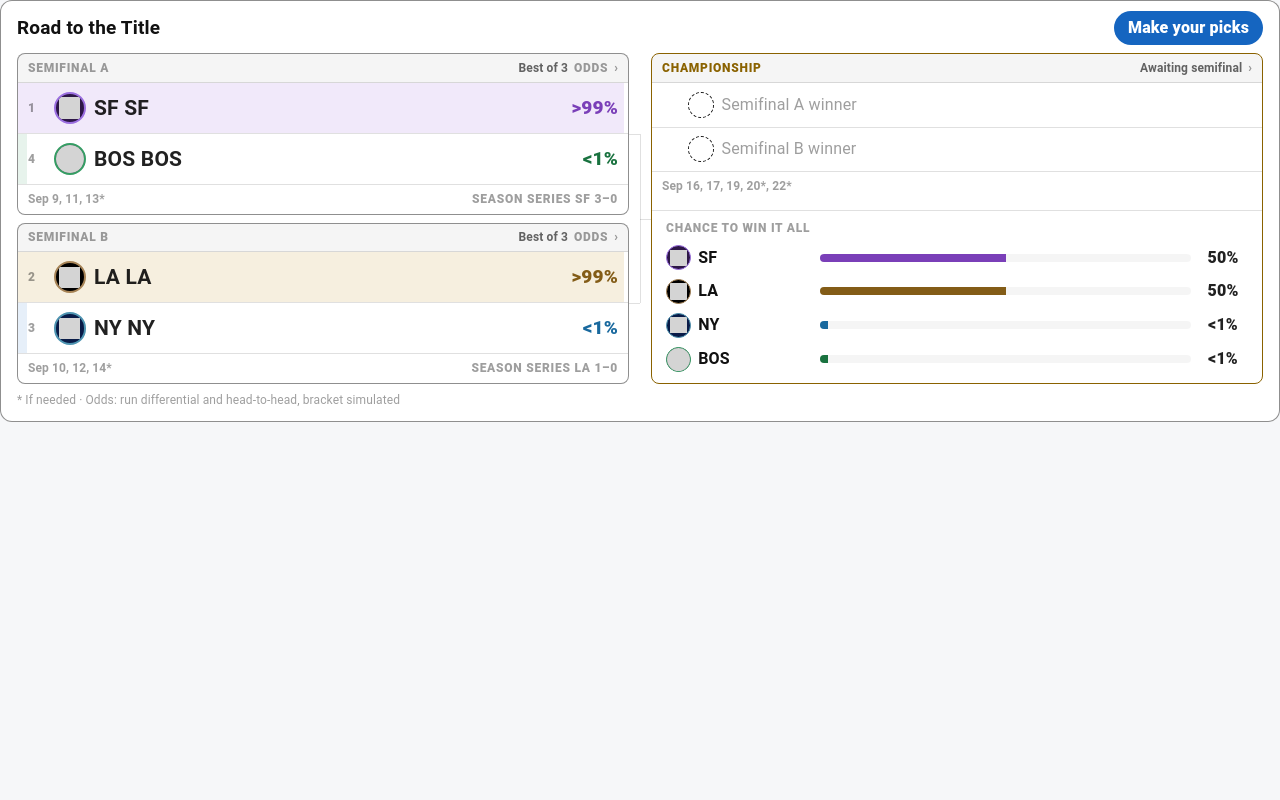
picking a series › leaves a semifinal out of a hundred
Click the button "Make your picks". click: (1188, 28)
box: [1114,11,1263,45]
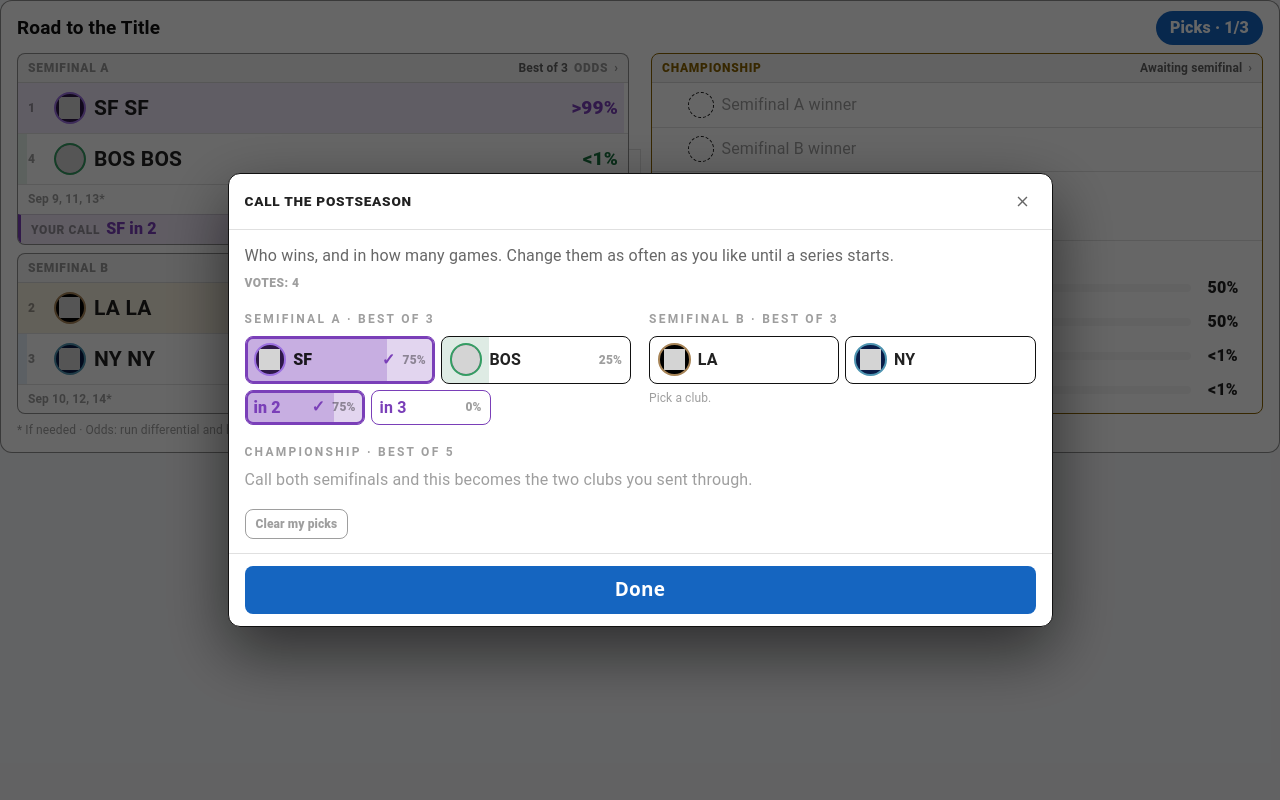
Check: the text "Call the postseason" is shown, box [244,193,412,209]
Check: the radio button with aria-label "Semifinal A: SF to win" shows "75%", box [244,336,435,384]
Check: the radio button with aria-label "Semifinal A: BOS to win" shows "25%", box [441,336,631,384]
